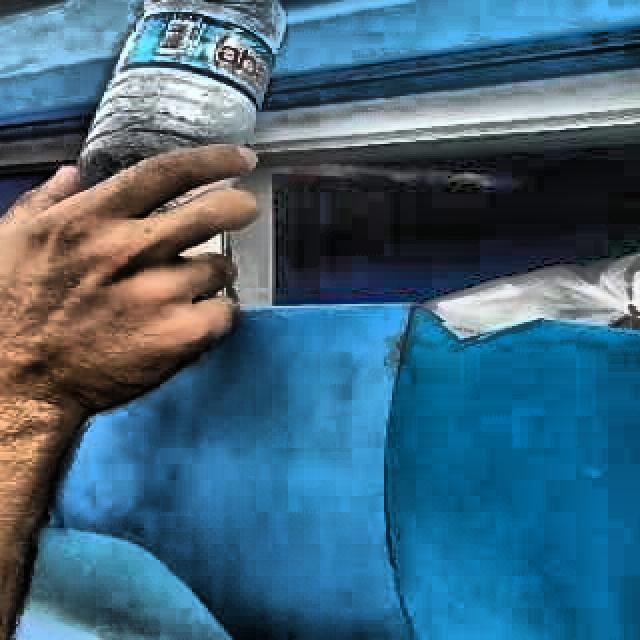plastic: (80, 0, 285, 180)
